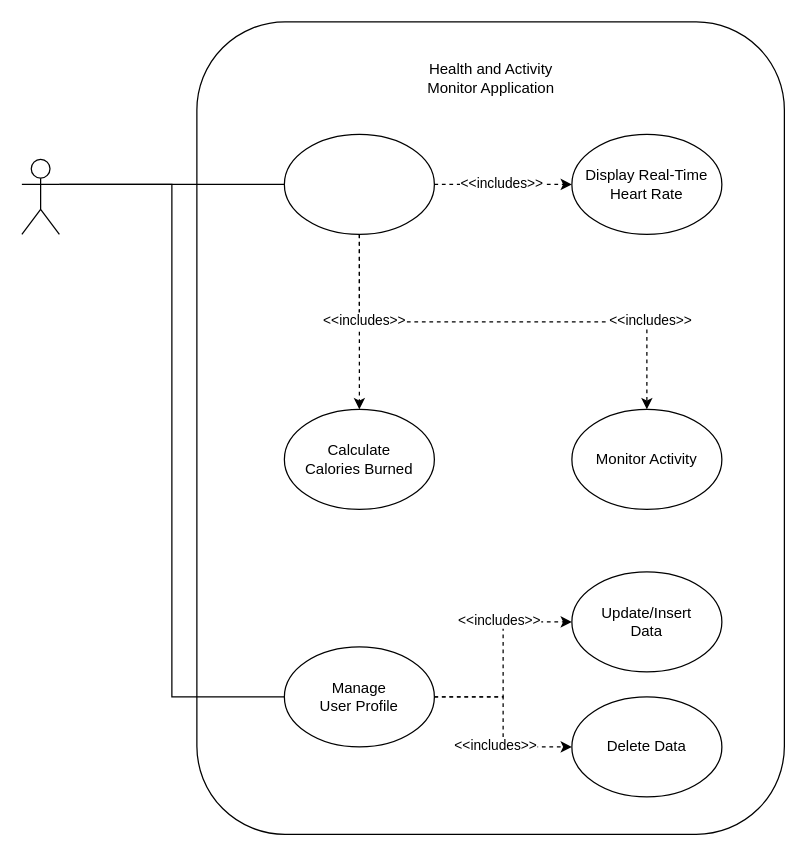
Image size: 806x856. Some labels were removed from this diagram. The centre of each missing label's shape, as x and y in pixels:
"Monitor Health" belongs at [358,183].
"User" belongs at [40,196].
